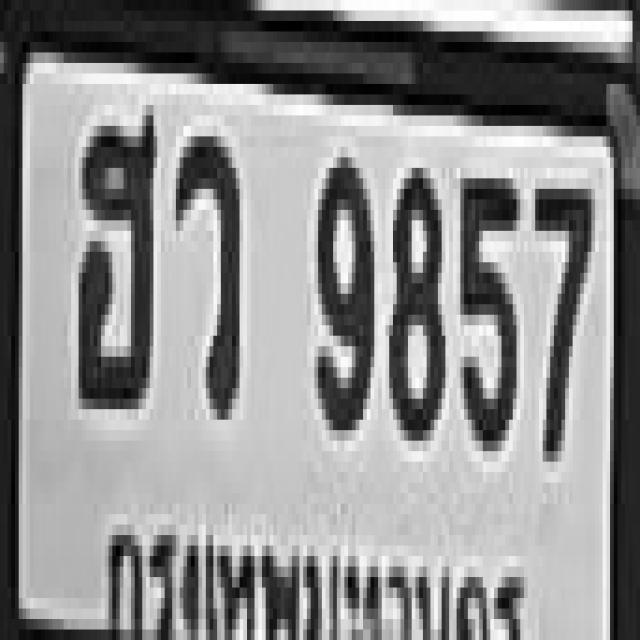46WorWaen: (172, 126, 236, 409)
5: (456, 168, 516, 441)
53HorNokHook: (75, 105, 153, 399)
7: (532, 178, 588, 452)
8: (386, 157, 442, 430)
9: (314, 147, 370, 420)
